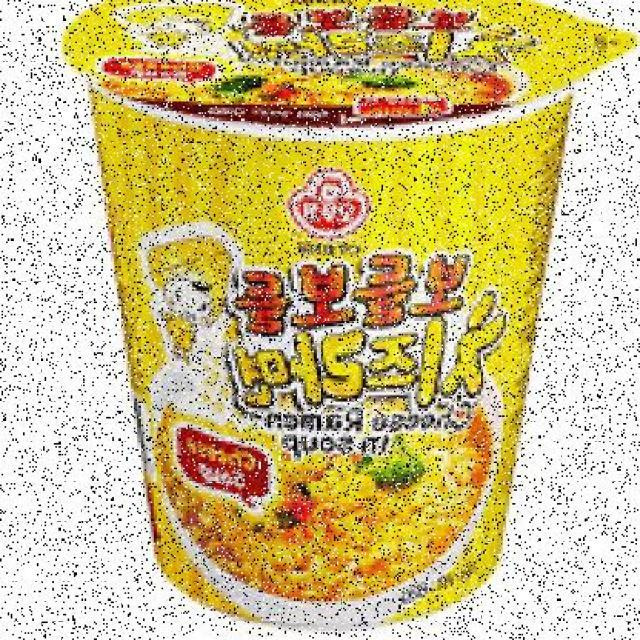Miscellaneous: (89, 0, 582, 623)
